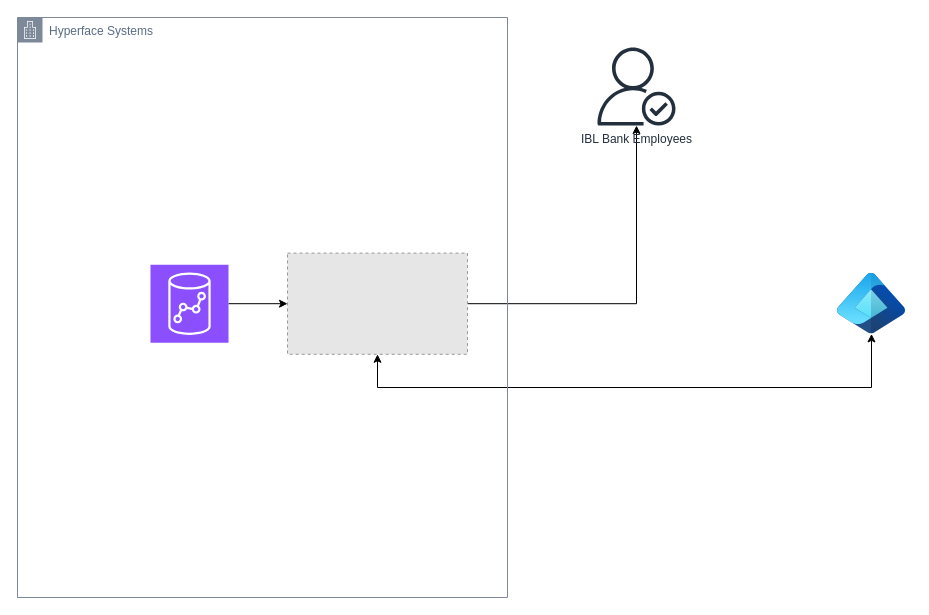
This 929x615 diagram has some shape labels left out. Grey dashed boxes stand in for pictures. The box of each missing label's shape, as (x1, y1, x2, y2) in pixels:
Data Warehouse: (150, 264, 228, 343)
Microsoft Entra: (837, 273, 905, 333)
